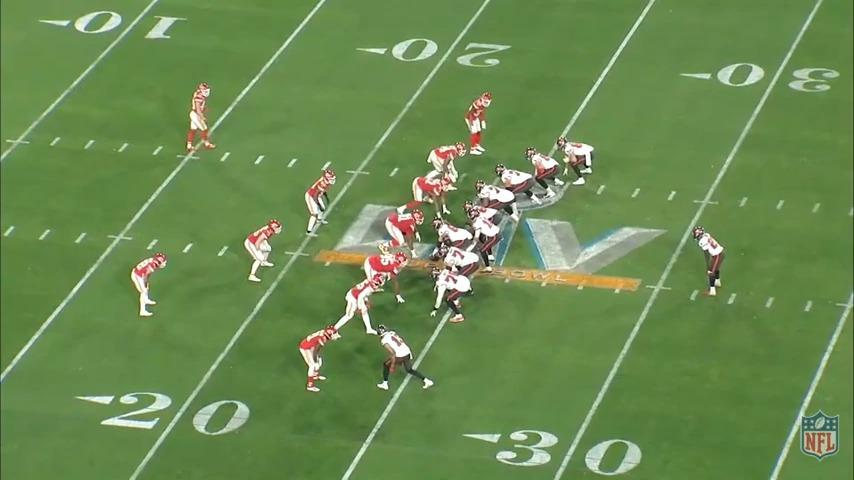defense: (295, 324, 337, 398), (333, 274, 381, 337), (357, 250, 410, 303), (300, 169, 335, 242), (134, 251, 170, 321), (246, 218, 284, 284), (184, 81, 215, 156), (403, 175, 454, 218), (378, 208, 423, 253), (464, 91, 494, 157), (426, 142, 467, 182)
oline: (440, 242, 484, 300), (433, 266, 475, 325), (431, 218, 474, 257), (473, 180, 516, 217), (464, 202, 502, 226)
qb: (468, 206, 503, 274)
skill: (374, 324, 435, 396), (695, 223, 733, 298), (556, 135, 597, 187), (528, 148, 567, 199), (493, 163, 538, 203)
